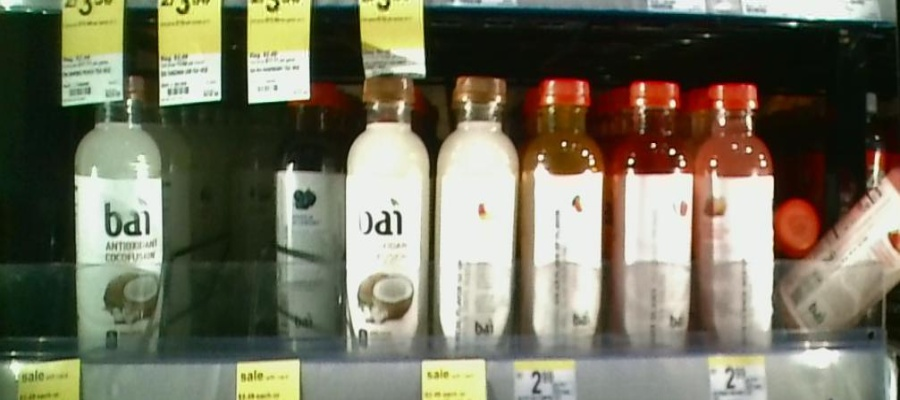bottle: (518, 65, 607, 357), (73, 84, 164, 363), (610, 63, 693, 366), (694, 60, 775, 363), (432, 76, 517, 352), (346, 73, 430, 346), (279, 84, 345, 346), (231, 105, 276, 303), (783, 198, 840, 341)
